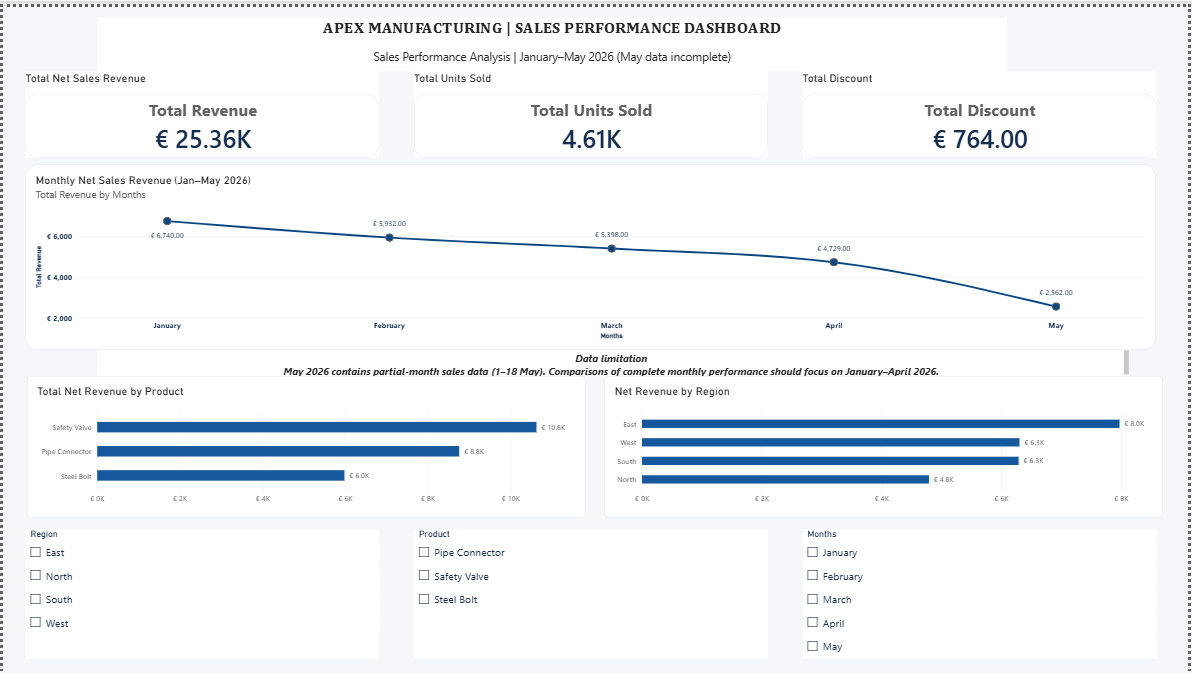

Layout of this report page (visuals, bound fields, positions):
{"tool":"powerbi","page":{"name":"Sales Performance","canvas":[1920,1080],"ordinal":0},"visuals":[{"type":"cardVisual","title":"Total Net Sales Revenue","fields":{"Data":["Raw_Data.Total Revenue"]},"box":[37.5,105,573,140],"z":0},{"type":"cardVisual","title":"Total Units Sold","fields":{"Data":["Raw_Data.Total Units Sold"]},"box":[666.2,105,573,140],"z":1000},{"type":"cardVisual","title":"Total Discount","fields":{"Data":["Raw_Data.Total Discount"]},"box":[1295,105,573,140],"z":2000},{"type":"lineChart","title":"Monthly Net Sales Revenue (Jan–May 2026)","fields":{"Category":["Raw_Data.Months"],"Y":["Raw_Data.Total Revenue"]},"box":[37.5,255,1830,300],"z":3000},{"type":"clusteredBarChart","title":"Total Net Revenue by Product","fields":{"Category":["Raw_Data.Product"],"Y":["Raw_Data.Total Revenue"]},"box":[38.2,596.5,904.3,229],"z":4000},{"type":"clusteredBarChart","title":"Net Revenue by Region","fields":{"Category":["Raw_Data.Region"],"Y":["Raw_Data.Total Revenue"]},"box":[973.5,596.5,904.3,229],"z":5000},{"type":"slicer","fields":{"Values":["Raw_Data.Region"]},"box":[37.5,845,573,210],"z":6000},{"type":"slicer","fields":{"Values":["Raw_Data.Product"]},"box":[666.2,845,573,210],"z":7000},{"type":"slicer","fields":{"Values":["Raw_Data.Months"]},"box":[1295,845,573,210],"z":8000},{"type":"textbox","box":[152.5,17.5,1472.5,87.5],"z":9000},{"type":"textbox","box":[152.7,555.9,1670.1,40.6],"z":10000}]}

Visuals, with their boxes in screenshot pixels (x1, y1, x2, y2), scaled from the page's 1920x1080 canvas onto the 1192x673 screenshot:
"Total Net Sales Revenue" cardVisual: BBox(23, 65, 379, 153)
"Total Units Sold" cardVisual: BBox(414, 65, 769, 153)
"Total Discount" cardVisual: BBox(804, 65, 1160, 153)
"Monthly Net Sales Revenue (Jan–May 2026)" lineChart: BBox(23, 159, 1159, 346)
"Total Net Revenue by Product" clusteredBarChart: BBox(24, 372, 585, 514)
"Net Revenue by Region" clusteredBarChart: BBox(604, 372, 1166, 514)
slicer - Raw_Data.Region: BBox(23, 527, 379, 657)
slicer - Raw_Data.Product: BBox(414, 527, 769, 657)
slicer - Raw_Data.Months: BBox(804, 527, 1160, 657)
textbox: BBox(95, 11, 1009, 65)
textbox: BBox(95, 346, 1132, 372)
